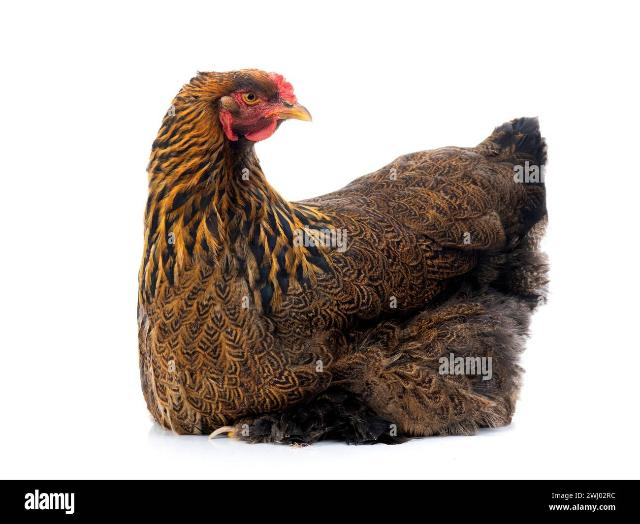Chicken: (135, 72, 548, 446)
